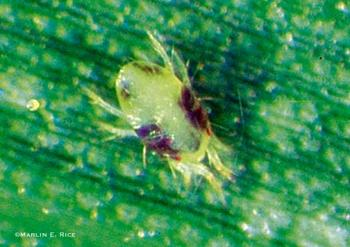Mites: (81, 35, 263, 224)
